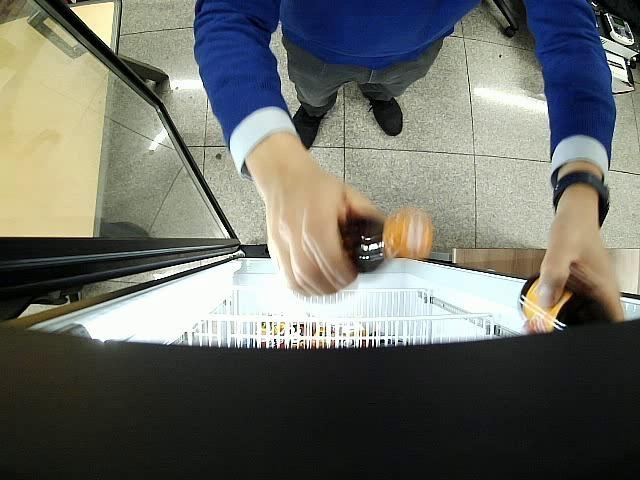17_vita500: (338, 207, 432, 272), (520, 274, 615, 334)
